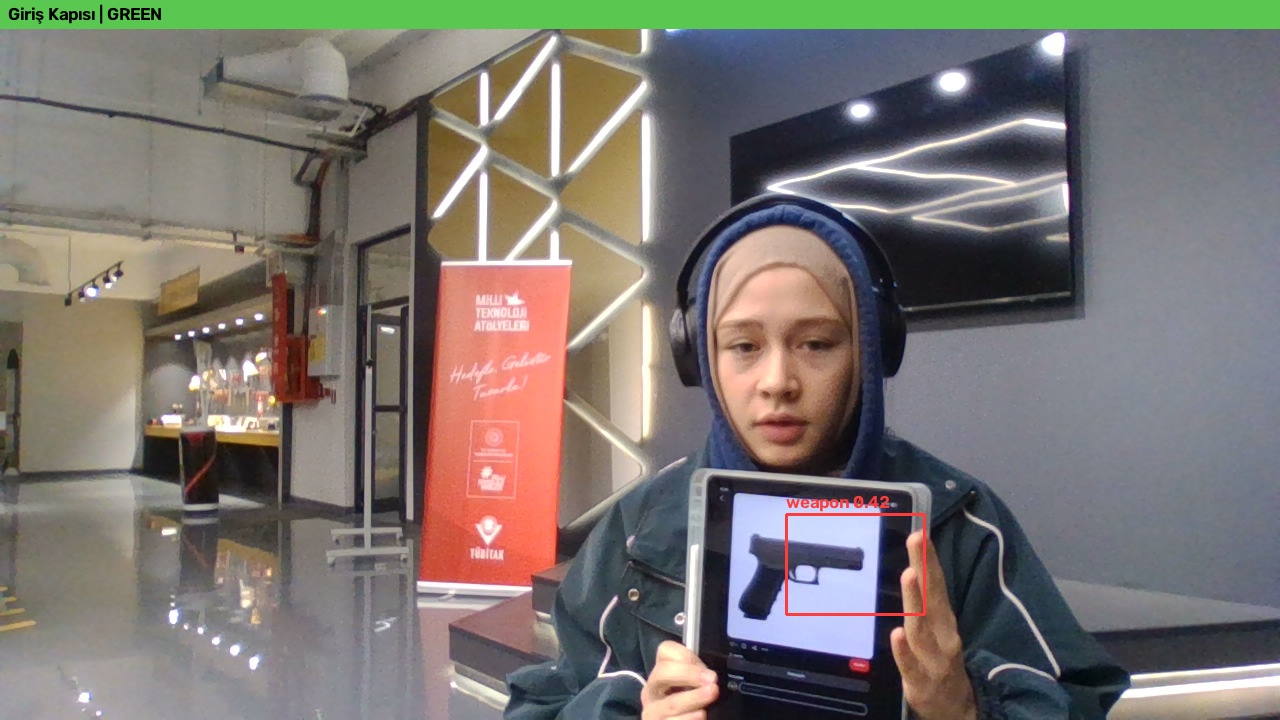weapon: (740, 518, 869, 614)
